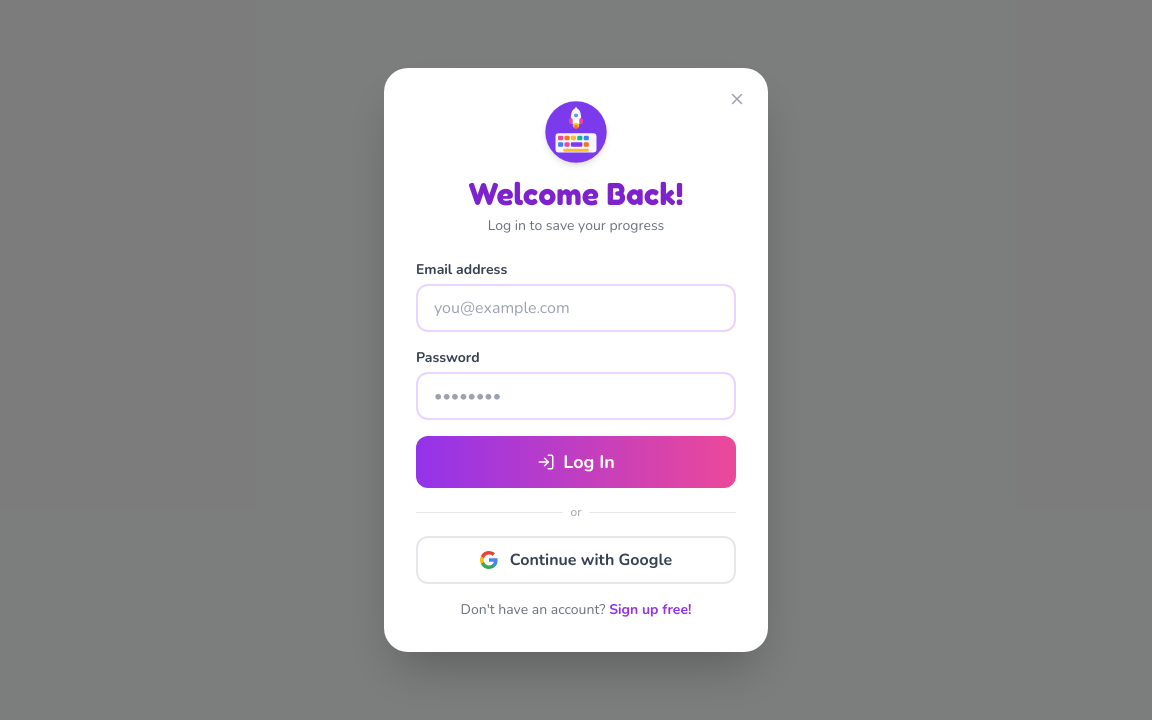
AuthModal › shows error message on failed login
The image size is (1152, 720).
Type "test@example.com" into the field with placeholder "you@example.com" at (576, 308), box 416,284 -> 736,332
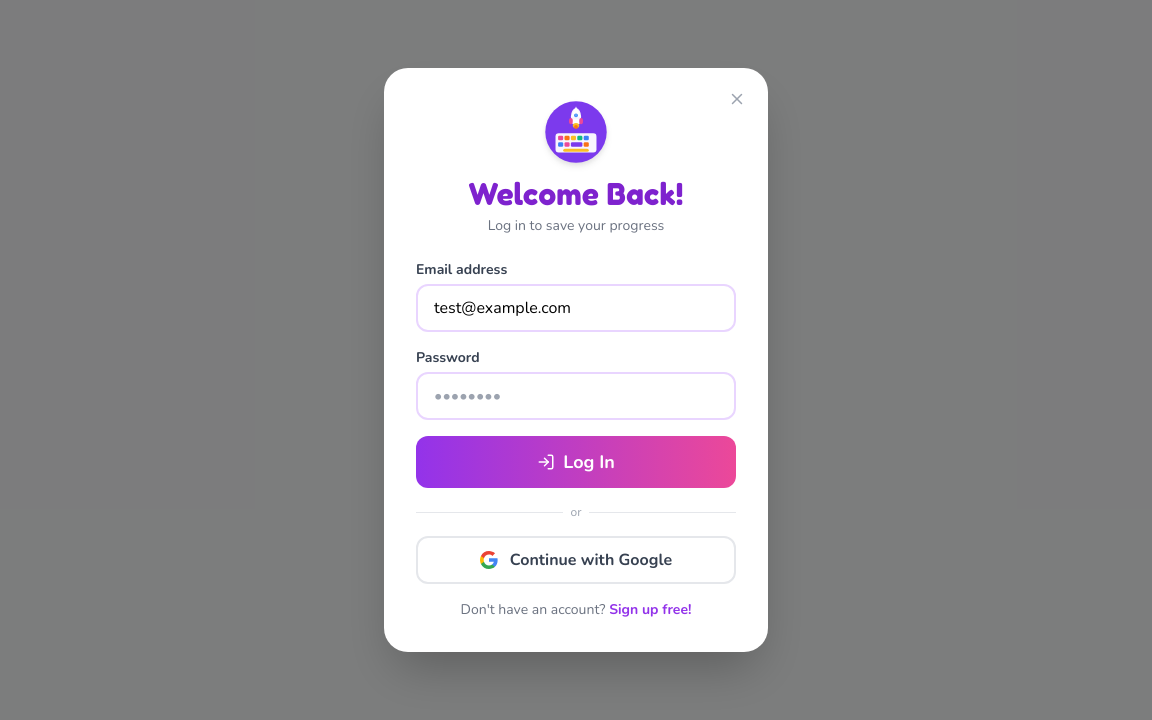
Type "wrongpass" into the password field with placeholder "••••••••" at (576, 396), box 416,372 -> 736,420
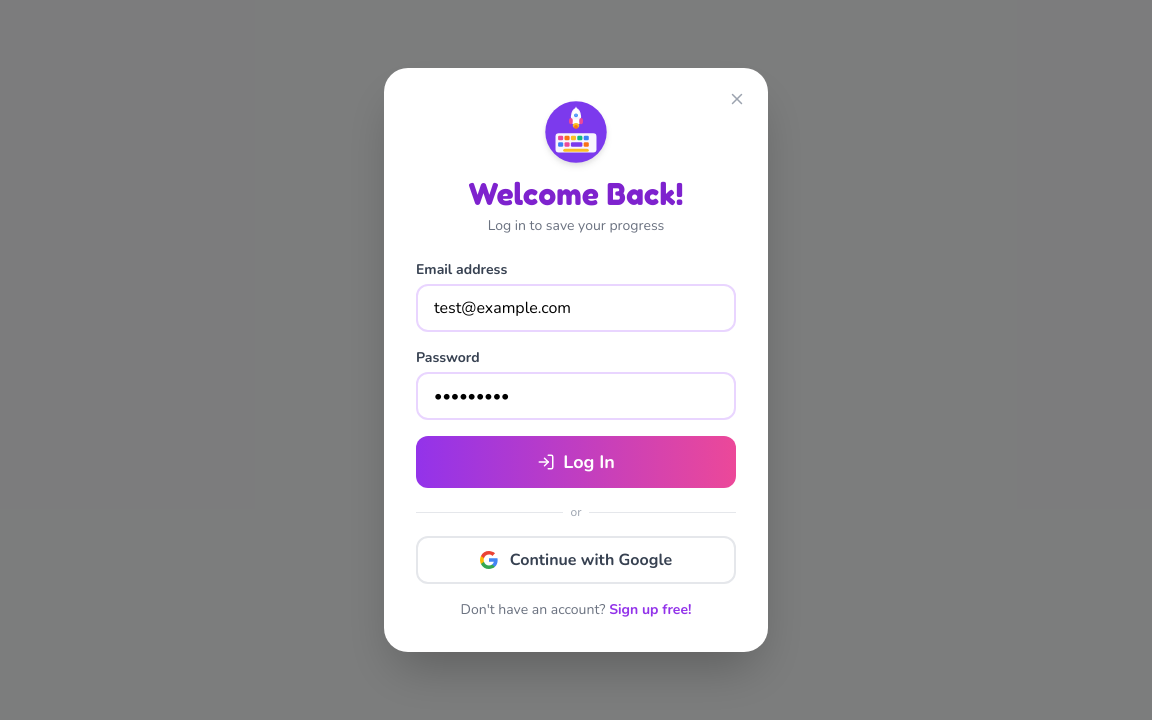
Click the button "Log In" at (576, 462), box 416,436 -> 736,488
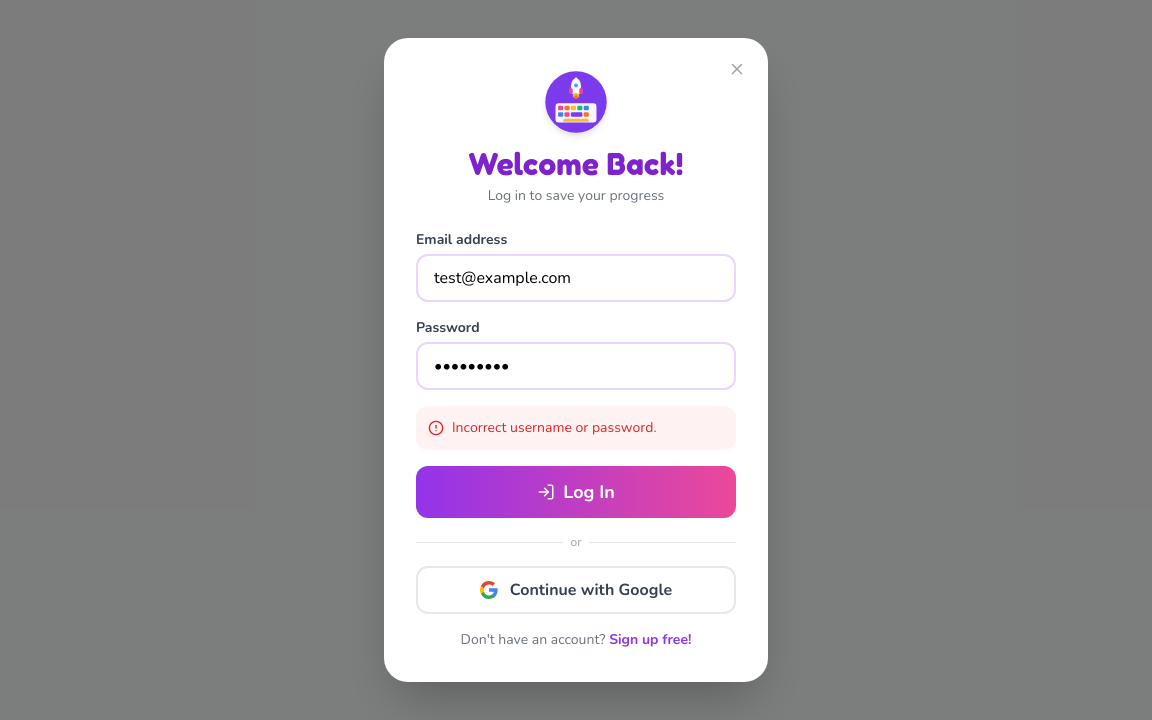
Expected: the text "Incorrect username or password." is shown, 452,418 -> 657,438
